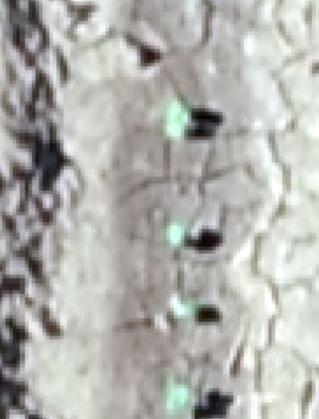cotton: (166, 379, 192, 410), (167, 98, 187, 135), (166, 223, 185, 243), (177, 303, 199, 318)
